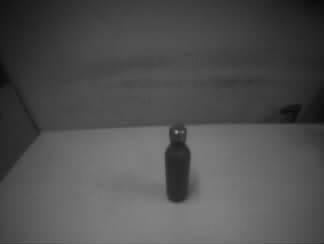Bottle: (164, 124, 192, 204)
